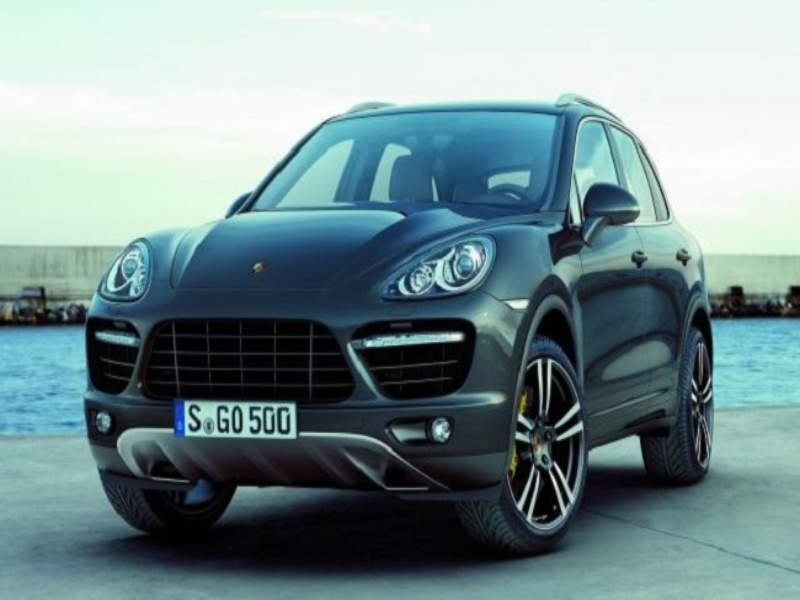licenceplate: (172, 398, 300, 439)
